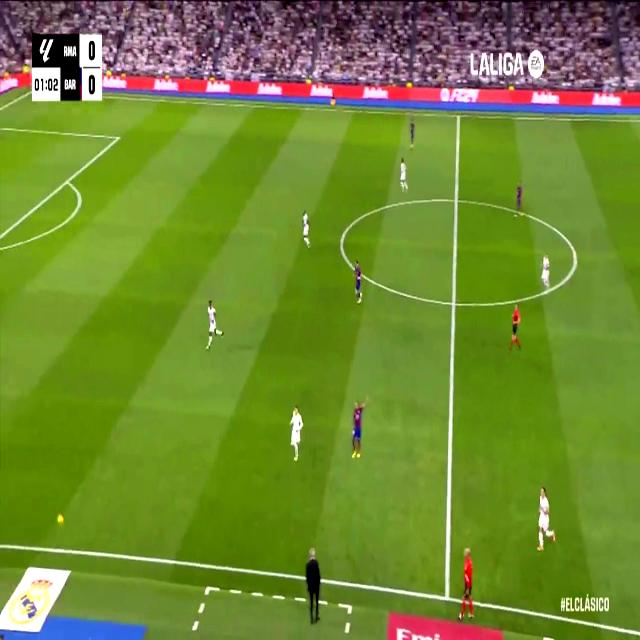bigarea_top_inner: (113, 128, 121, 146)
halfcircle_bottom: (447, 285, 461, 319)
halfcircle_top: (450, 185, 463, 215)
midline_bottom_intersection: (439, 576, 455, 608)
midline_top_intersection: (454, 109, 464, 127)
top_arc_area_intersection: (62, 171, 72, 189)
